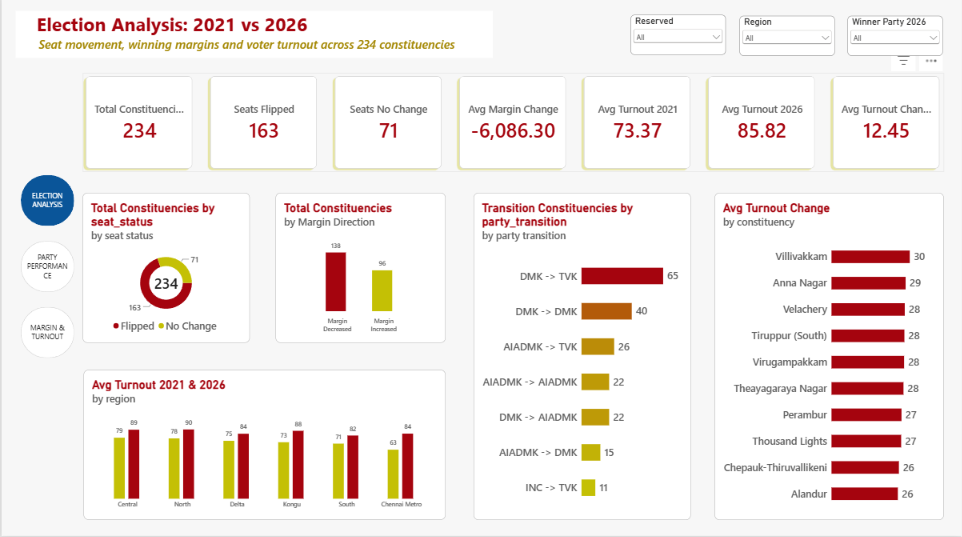

What the dashboard file says about the page in this screenshot:
{"tool":"powerbi","page":{"name":"ELECTION ANALYSIS","canvas":[1920,1080],"ordinal":0},"visuals":[{"type":"slicer","fields":{"Values":["tn_21_26.region"]},"box":[1475.3,37.4,190,80],"z":0,"group":"g1"},{"type":"donutChart","fields":{"Category":["tn_21_26.seat_status"],"Y":["tn_21_26.Total Constituencies"]},"box":[162,392,334,300],"z":0},{"type":"slicer","fields":{"Values":["tn_21_26.reserved"]},"box":[1258,36,190,80],"z":1000,"group":"g1"},{"type":"cardVisual","fields":{"Data":["tn_21_26.Total Constituencies","tn_21_26.Seats Flipped","tn_21_26.Seats No Change","tn_21_26.Avg Margin Change","tn_21_26.Avg Turnout 2021","tn_21_26.Avg Turnout 2026","tn_21_26.Avg Turnout Change"]},"box":[162,152,1722,198],"z":1000},{"type":"slicer","fields":{"Values":["tn_21_26.winner_party_2026"]},"box":[1692.6,37.4,190,80],"z":2000,"group":"g1"},{"type":"clusteredBarChart","fields":{"Category":["tn_21_26.party_transition"],"Y":["tn_21_26.Transition Constituencies"]},"box":[944,392,434,654],"z":2000},{"type":"clusteredColumnChart","fields":{"Category":["tn_21_26.Margin Direction"],"Y":["tn_21_26.Total Constituencies"]},"box":[548,392,340,300],"z":3000},{"type":"clusteredColumnChart","title":"Avg Turnout 2021 & 2026","fields":{"Category":["tn_21_26.region"],"Y":["tn_21_26.Avg Turnout 2021","tn_21_26.Avg Turnout 2026"]},"box":[164,746,724,300],"z":4000},{"type":"barChart","fields":{"Category":["tn_21_26.constituency"],"Y":["tn_21_26.Avg Turnout Change"]},"box":[1426,392,458,654],"z":5000},{"type":"textbox","box":[28,28,954,94],"z":6000},{"type":"group","id":"g1","title":"slicers","box":[1258,36,624.6,81.4],"z":7000},{"type":"pageNavigator","box":[27.5,345,127.5,387.5],"z":7001}]}

Visuals, with their boxes in screenshot pixels (x1, y1, x2, y2), scaled from the page's 1920x1080 canvas onto the 962x537 screenshot:
slicer - tn_21_26.region: region(739, 19, 834, 58)
donutChart - tn_21_26.seat_status x tn_21_26.Total Constituencies: region(81, 195, 249, 344)
slicer - tn_21_26.reserved: region(630, 18, 726, 58)
cardVisual - tn_21_26.Total Constituencies x tn_21_26.Seats Flipped: region(81, 76, 944, 174)
slicer - tn_21_26.winner_party_2026: region(848, 19, 943, 58)
clusteredBarChart - tn_21_26.party_transition x tn_21_26.Transition Constituencies: region(473, 195, 690, 520)
clusteredColumnChart - tn_21_26.Margin Direction x tn_21_26.Total Constituencies: region(275, 195, 445, 344)
"Avg Turnout 2021 & 2026" clusteredColumnChart: region(82, 371, 445, 520)
barChart - tn_21_26.constituency x tn_21_26.Avg Turnout Change: region(714, 195, 944, 520)
textbox: region(14, 14, 492, 61)
"slicers" group: region(630, 18, 943, 58)
pageNavigator: region(14, 172, 78, 364)
